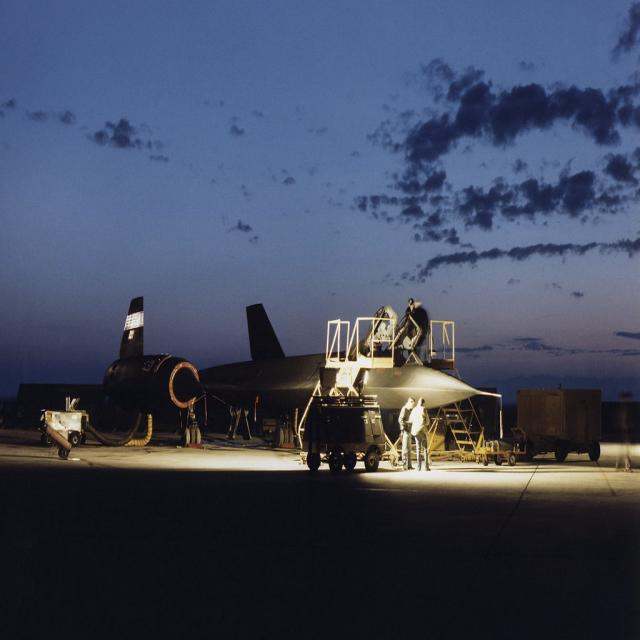MIL_Plane: (16, 295, 502, 448)
